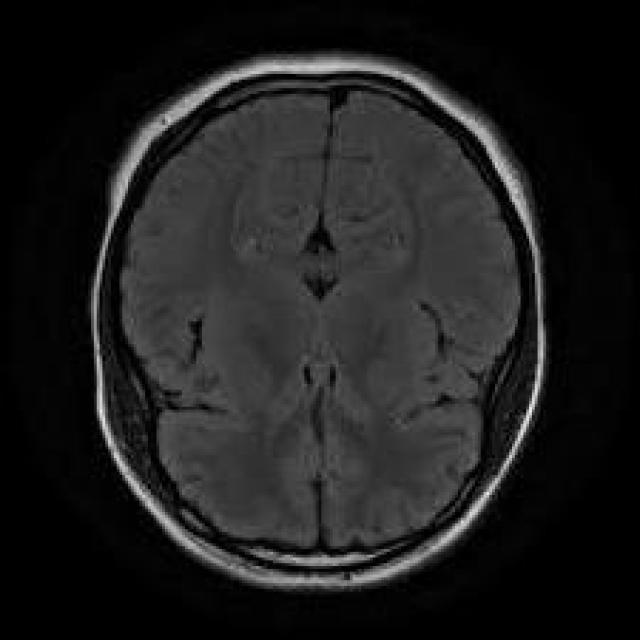notumor: (91, 57, 546, 589)
